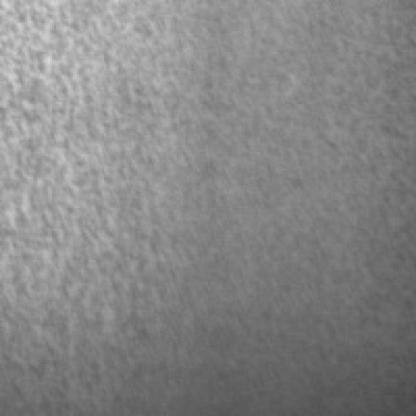pitted_surface: (2, 0, 406, 381)
